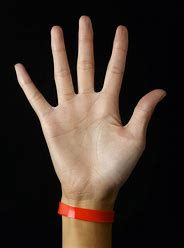palm: (13, 14, 167, 198)
